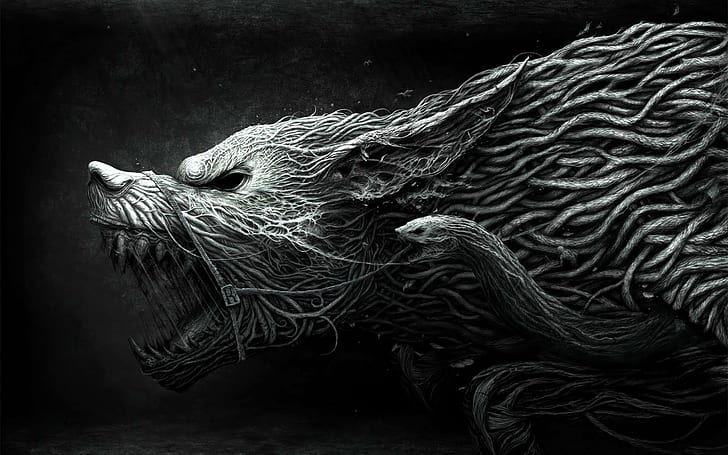Lobo: (70, 107, 522, 376)
